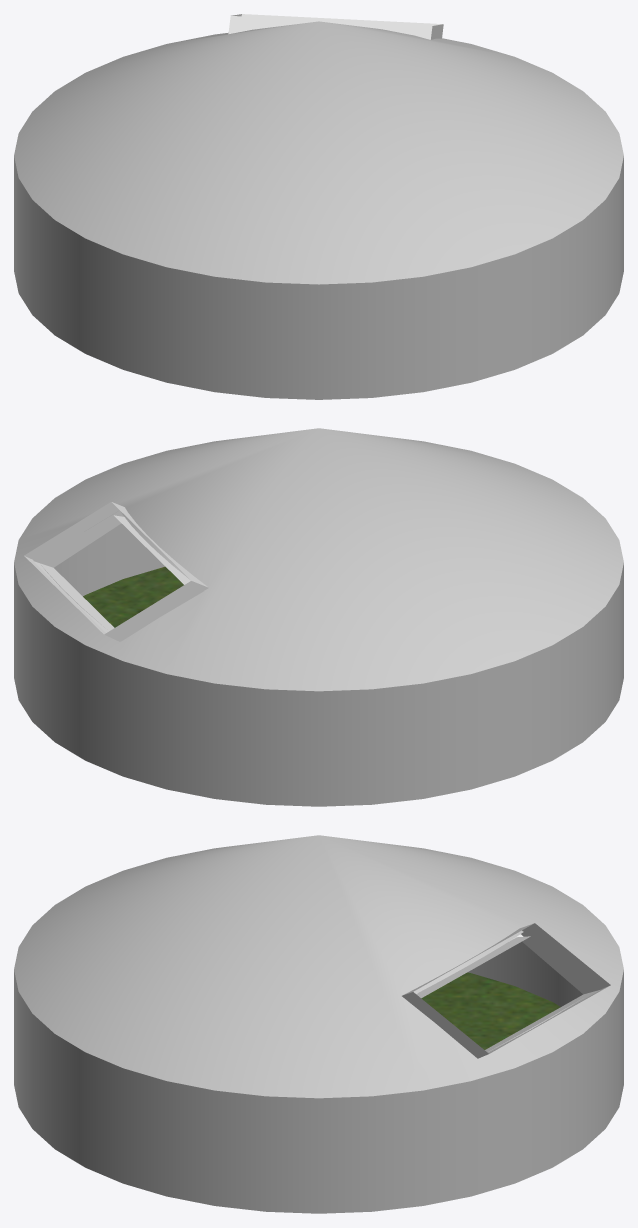
The model's file is CircusTent.fbx.
The picture shows the model from 3 angles, top to bottom: view 1: azimuth 30°, elevation 25°; view 2: azimuth 150°, elevation 25°; view 3: azimuth 270°, elevation 25°; orthographic projection.
Visible parts, largest first — view 1: Circus Tent, Window To Sky; view 2: Circus Tent, Window To Sky; view 3: Circus Tent, Window To Sky.
Part boxes in pixels (bbox=[...]): Circus Tent: bbox=[14, 21, 623, 399]; Window To Sky: bbox=[228, 14, 443, 39]; Circus Tent: bbox=[14, 428, 623, 806]; Window To Sky: bbox=[24, 502, 208, 641]; Circus Tent: bbox=[14, 835, 623, 1213]; Window To Sky: bbox=[402, 923, 610, 1058].
Size of the model in its own units: 6800 by 3071 by 6800.
